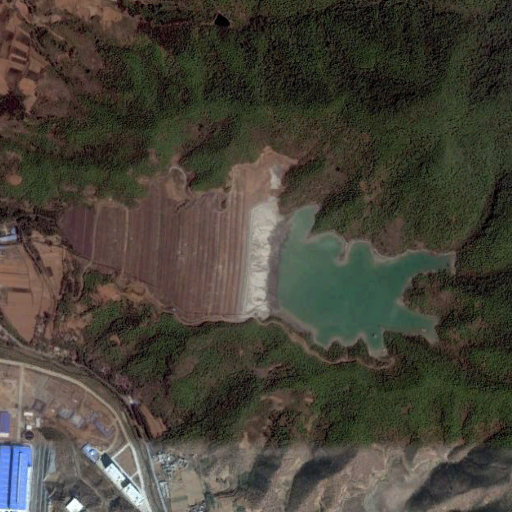tp: (238, 194, 459, 359)
